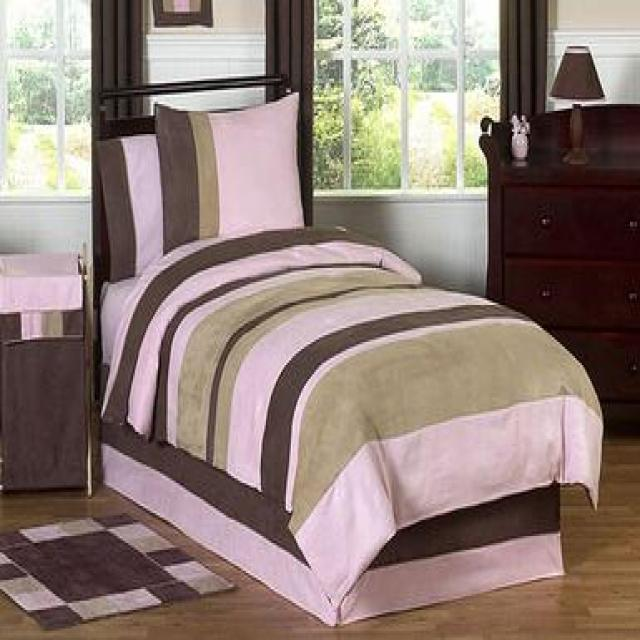bed: (90, 72, 603, 626)
